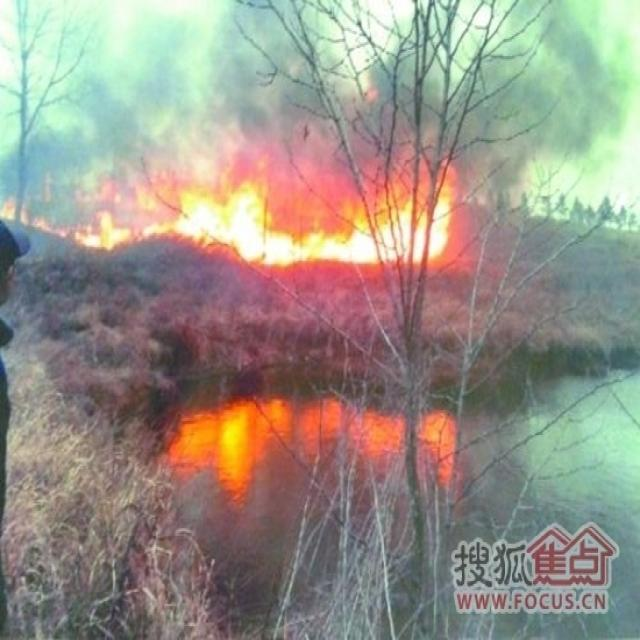Smoke: (0, 0, 640, 249)
